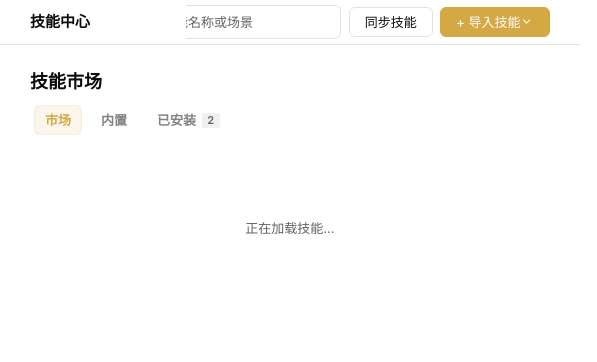
Test case: SkillCenterPage › 已安装技能只有 source=user 显示自建，非 user 技能按市场处理
Click the button "已安装 2".
click(188, 120)  # box [146,105,231,135]
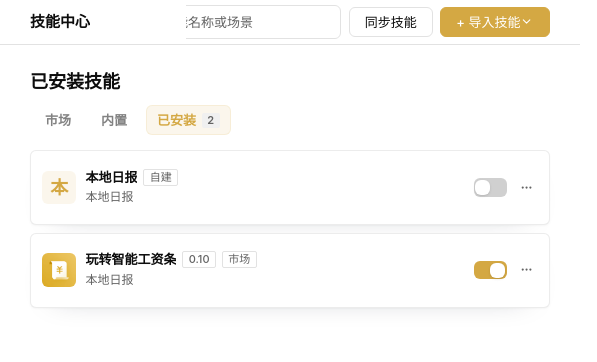
Check: the 2nd text with test id "skill-card-source" reads "市场", box [228,252,250,266]
Check: the text with test id "skill-card-source" reads "自建", box [150,170,172,184]
Press the mouse on the button named "玩转智能工资条 更多操作" at [526, 270], box [515,259,537,281]
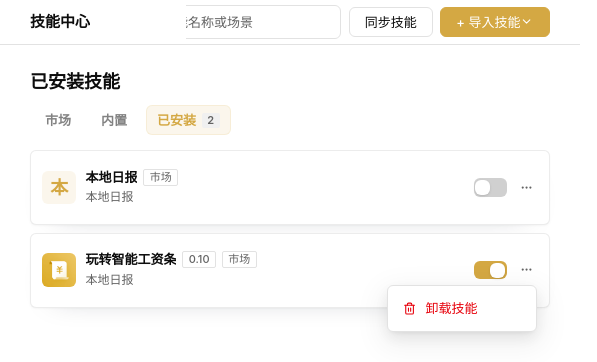
Check: the menu item "卸载技能" is shown, box [403,300,478,316]
